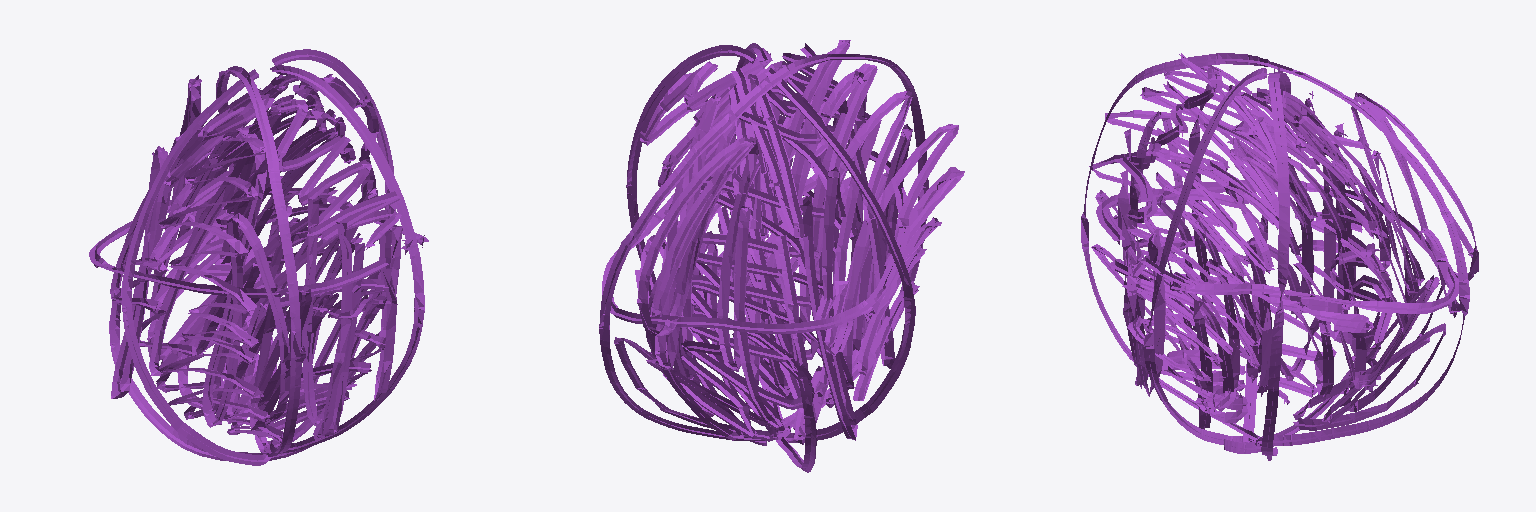
The picture shows the model from 3 angles: view 1: azimuth 30°, elevation 25°; view 2: azimuth 150°, elevation 25°; view 3: azimuth 270°, elevation 25°; orthographic projection.
Bounding box in the file's own units: 0.573 × 0.7786 × 0.7065.
1 materials, 1 textured.